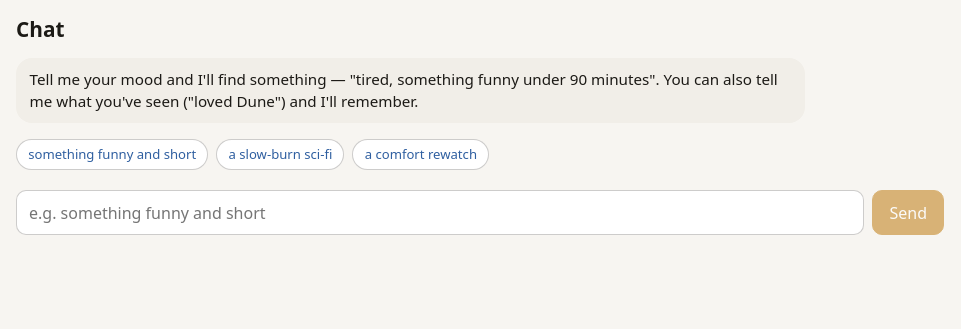
Chat write actions › shows a reduced-mode note when the turn degraded
Step 1. Type "I loved Dune" into the field with test id "chat-input" → (440, 213), box [16,190,864,235]
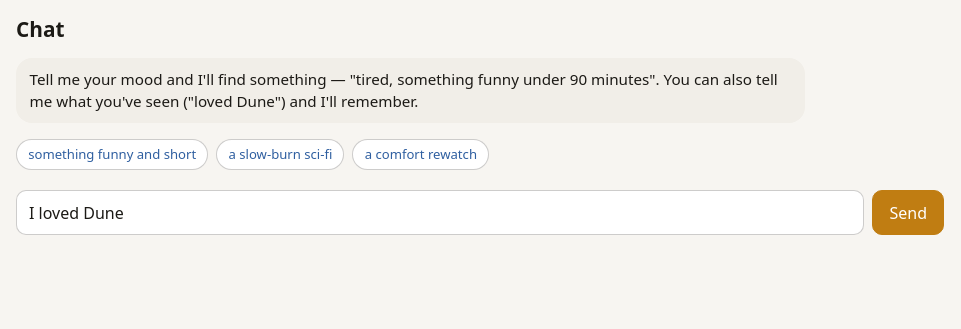
Step 2. Click the button with test id "chat-send" → (908, 213), box [872,190,944,235]
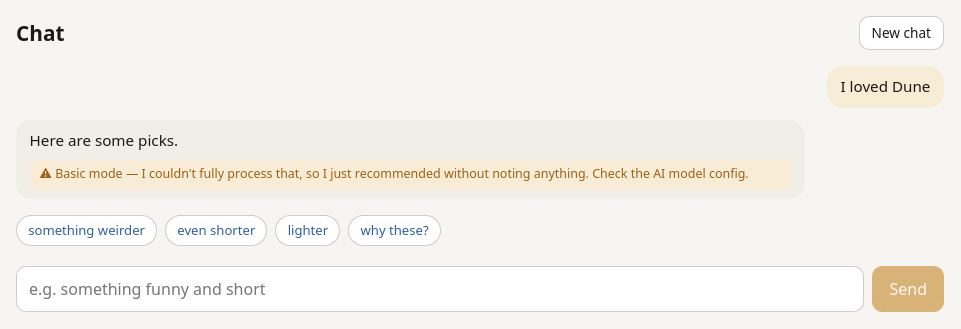
Expected: the text with test id "chat-degraded" is shown, [30,160,791,190]
